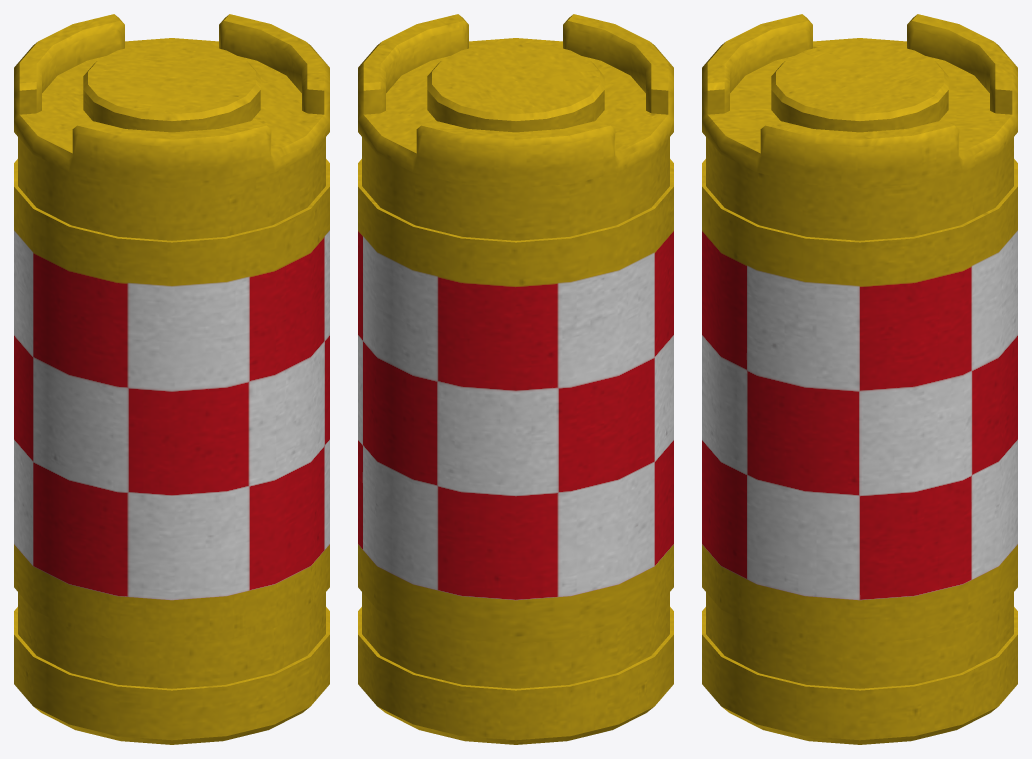
Rendered from sm_stob_fangzhuangtong.fbx.
3 renders of one model, left to right at view 1: azimuth 30°, elevation 25°; view 2: azimuth 150°, elevation 25°; view 3: azimuth 270°, elevation 25°, orthographic.
Parts seen in each view (by area): view 1: sm_stob_fangzhuangtong; view 2: sm_stob_fangzhuangtong; view 3: sm_stob_fangzhuangtong.
Part boxes in pixels (x1,y1,x2,y2): sm_stob_fangzhuangtong: (14, 14, 329, 744); sm_stob_fangzhuangtong: (358, 14, 673, 744); sm_stob_fangzhuangtong: (702, 14, 1017, 744).
Bounding box in the file's own units: 0.4199 × 0.8773 × 0.4135.
